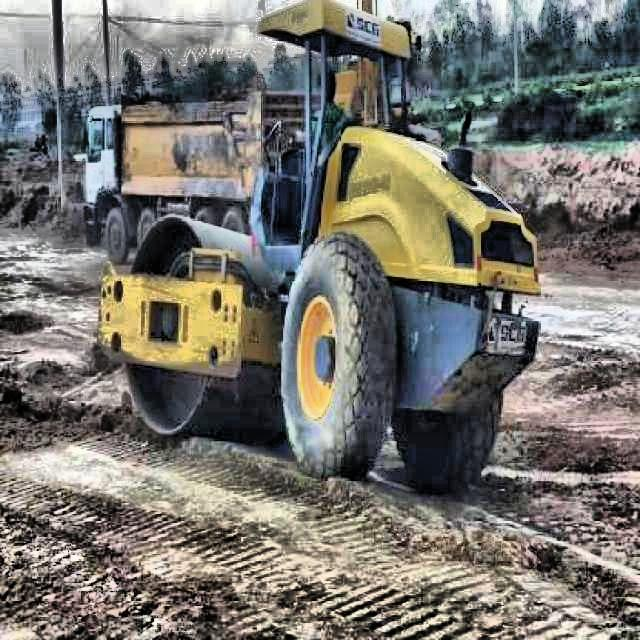dump_truck: (85, 78, 312, 260)
